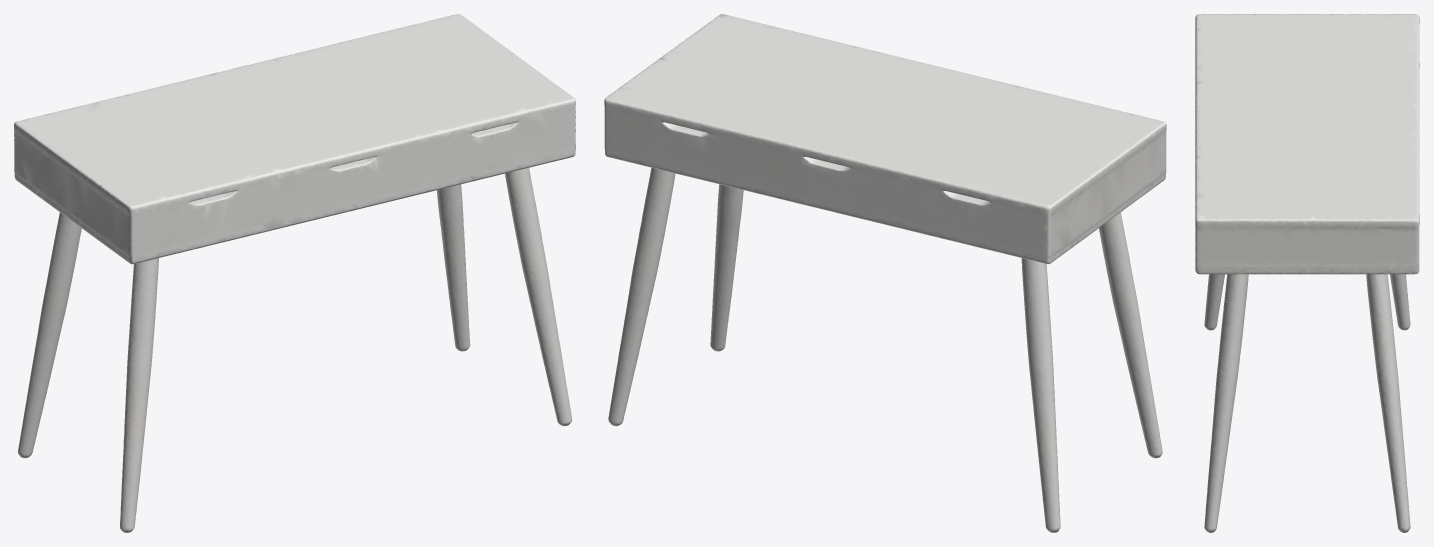
Rendered from hugge-85345-trellis2-q8-pbr.glb.
The picture shows the model from 3 angles, left to right: view 1: azimuth 30°, elevation 25°; view 2: azimuth 150°, elevation 25°; view 3: azimuth 270°, elevation 25°; orthographic projection. The views are drawn at different scales.
Parts seen in each view (by area): view 1: 0; view 2: 0; view 3: 0.
Boxes of the visible parts, x1,y1,x2,y2 form: 0: (14,14,575,532); 0: (604,14,1166,532); 0: (1195,14,1419,532).
Bounding box in the file's own units: 1.1 × 0.771 × 0.4999.
Materials: 1 (1 with a texture image).
